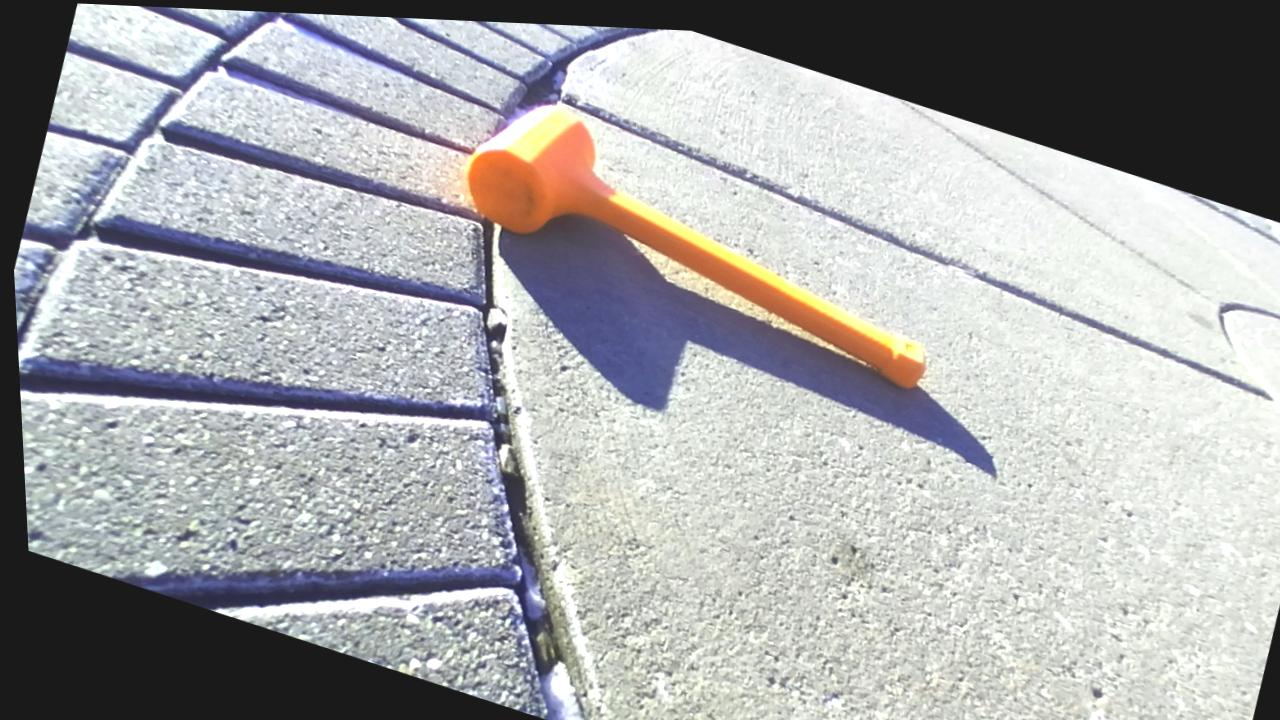mallet: (466, 106, 924, 385)
